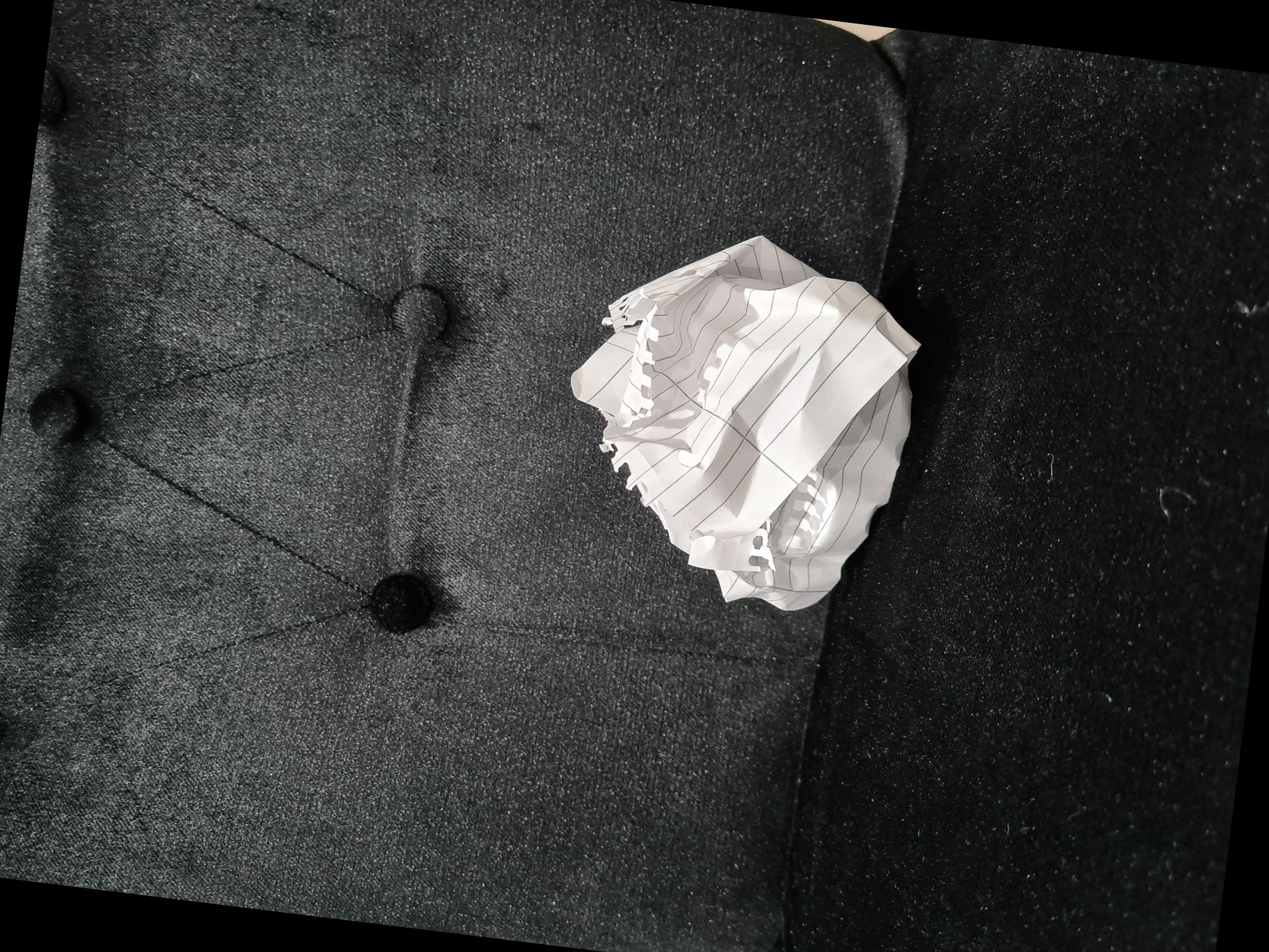Kertas: (324, 551, 696, 898)
